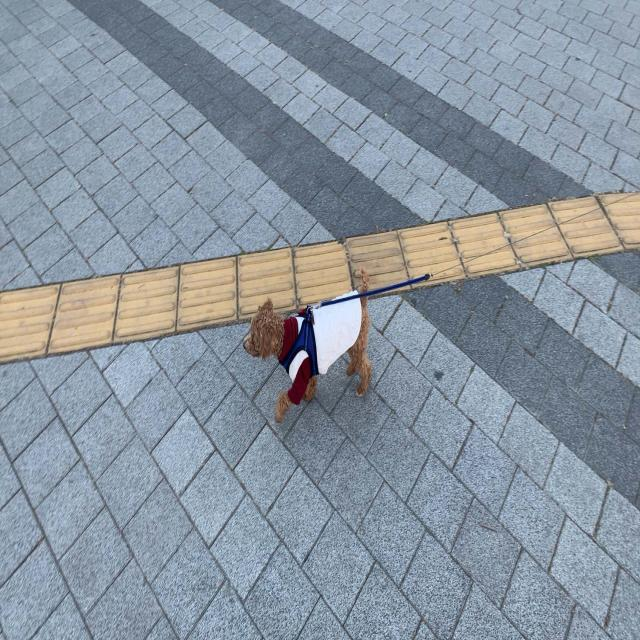Dog: (242, 268, 372, 424)
